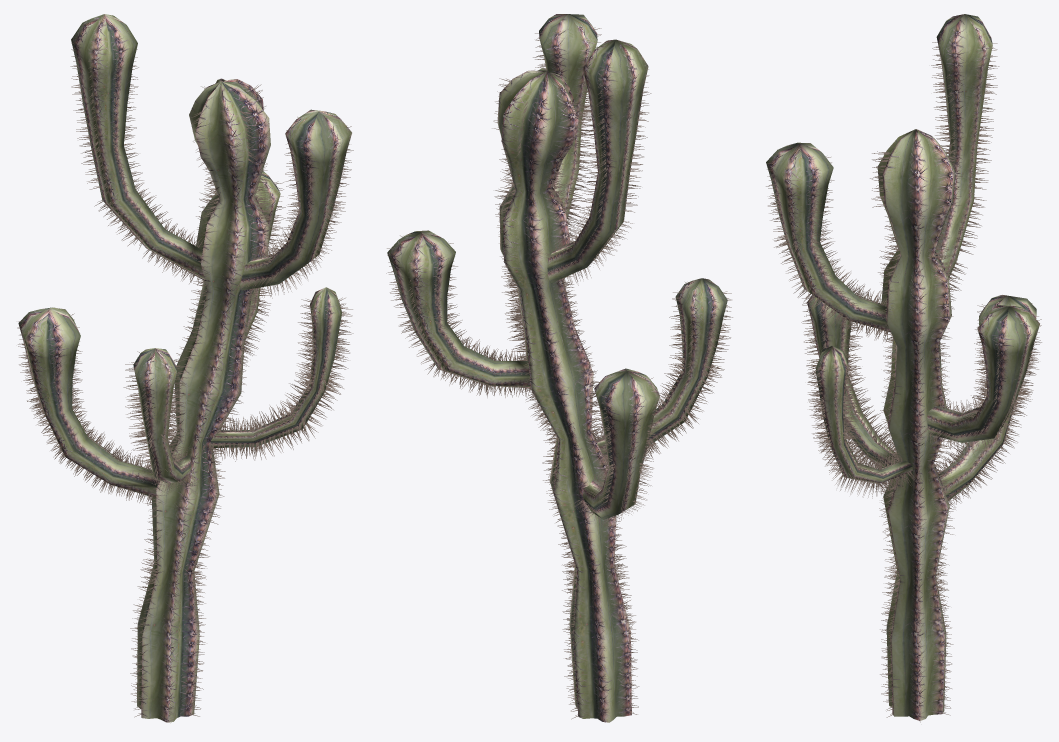
The model's file is cereusjamacaru.glb.
3 renders of one model, left to right at view 1: azimuth 30°, elevation 25°; view 2: azimuth 150°, elevation 25°; view 3: azimuth 270°, elevation 25°, orthographic. The views are drawn at different scales.
Parts seen in each view (by area): view 1: tree; view 2: tree; view 3: tree.
Part boxes in pixels (bbox=[...]): tree: bbox=[17, 14, 353, 722]; tree: bbox=[386, 14, 732, 722]; tree: bbox=[766, 14, 1041, 722].
Size of the model in its own units: 51.15 by 128 by 47.94.
2 materials, 2 textured.
